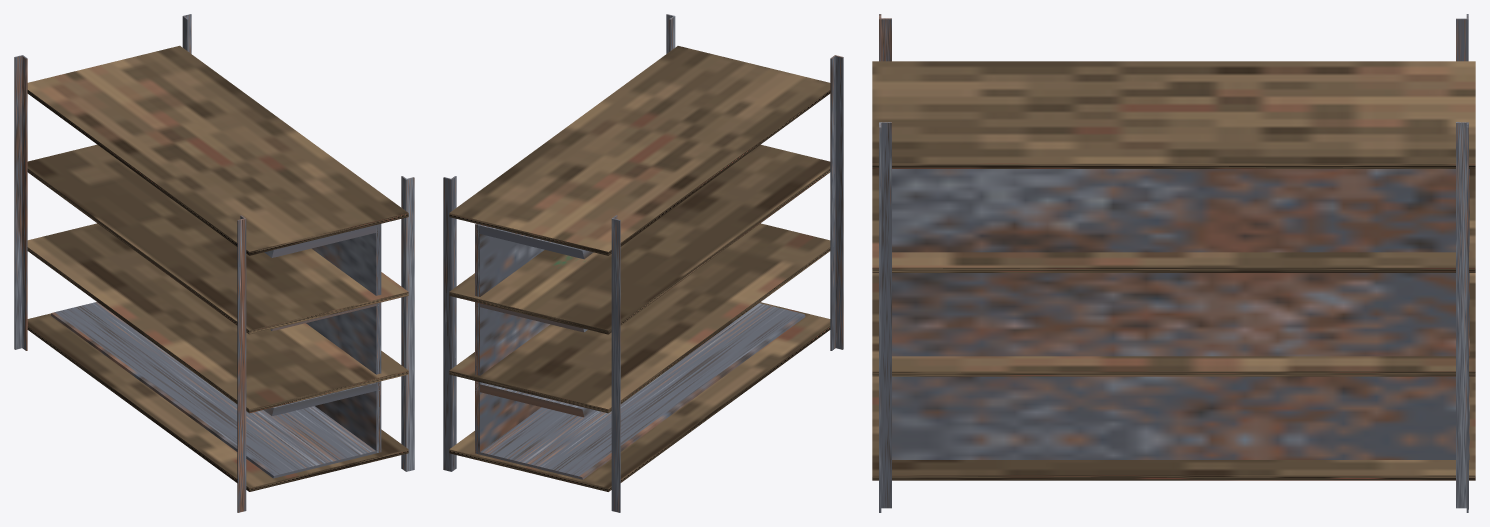
File: BoneGrown_shelves_with_texture_hopefully.fbx
3 views of the same model, side by side, from view 1: azimuth 30°, elevation 25°; view 2: azimuth 150°, elevation 25°; view 3: azimuth 270°, elevation 25° (orthographic). The views are drawn at different scales.
Parts seen in each view (by area): view 1: Cube.012, Cube.009; view 2: Cube.012, Cube.009; view 3: Cube.009, Cube.012.
Part boxes in pixels (x1,y1,x2,y2): Cube.012: [14, 14, 414, 512]; Cube.009: [51, 224, 381, 478]; Cube.012: [443, 14, 843, 512]; Cube.009: [475, 223, 805, 479]; Cube.009: [892, 169, 1469, 459]; Cube.012: [872, 14, 1475, 512].
Bounding box in the file's own units: 702 × 1111 × 1576.
2 materials, 2 textured.
